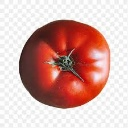tomato: (19, 19, 111, 108)
